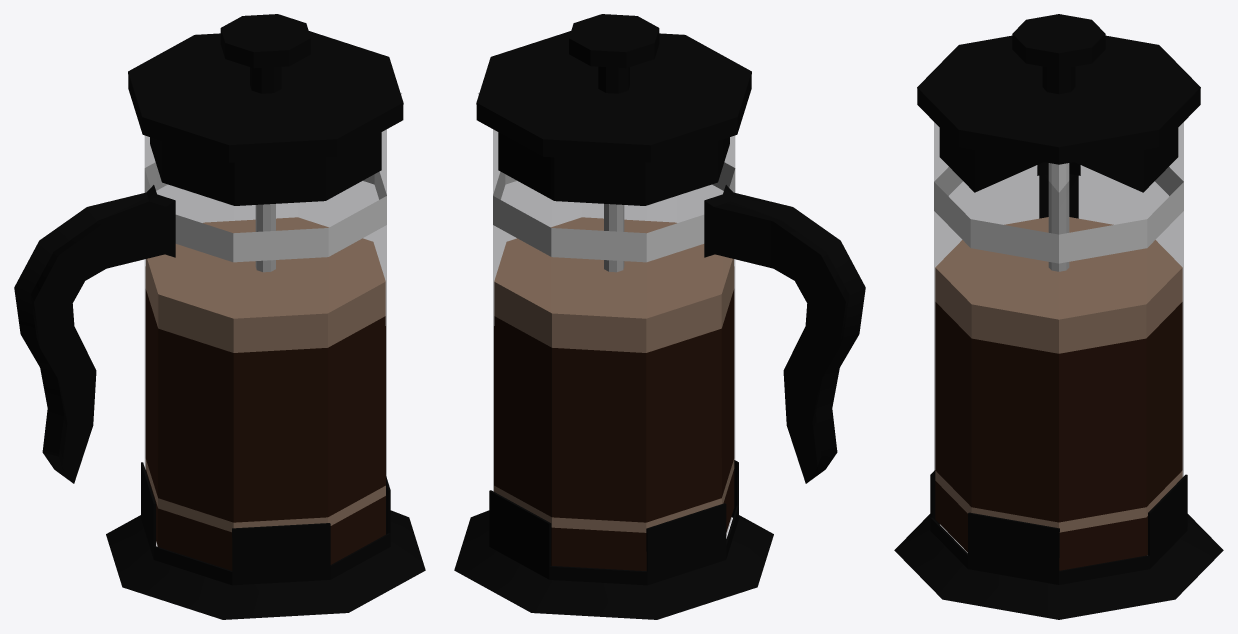
File: frenchPress.glb
3 views of the same model, side by side, from view 1: azimuth 30°, elevation 25°; view 2: azimuth 150°, elevation 25°; view 3: azimuth 270°, elevation 25° (orthographic).
Parts seen in each view (by area): view 1: frenchpress, coffee, push, handle; view 2: frenchpress, coffee, push, handle; view 3: frenchpress, coffee, push, handle.
Boxes of the visible parts, x1=… form: frenchpress: x1=106, y1=93, x2=425, y2=619; coffee: x1=145, y1=217, x2=385, y2=570; push: x1=128, y1=14, x2=403, y2=272; handle: x1=14, y1=185, x2=175, y2=483; frenchpress: x1=454, y1=93, x2=773, y2=619; coffee: x1=494, y1=217, x2=734, y2=570; push: x1=476, y1=14, x2=751, y2=272; handle: x1=704, y1=185, x2=865, y2=483; frenchpress: x1=894, y1=122, x2=1223, y2=619; coffee: x1=935, y1=217, x2=1182, y2=570; push: x1=917, y1=14, x2=1200, y2=271; handle: x1=1037, y1=162, x2=1080, y2=218.
Size of the model in its own units: 1.16 by 1.5 by 0.8671.
